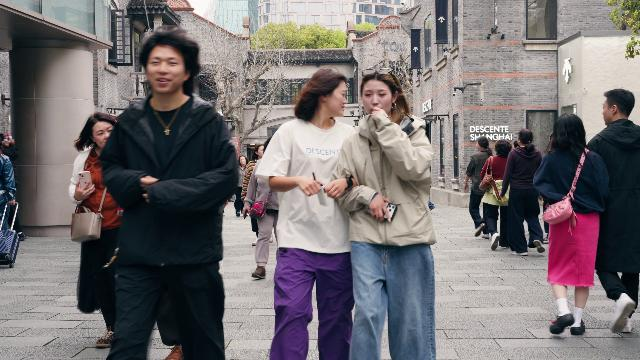person: (98, 24, 240, 360), (332, 67, 439, 360), (255, 65, 358, 360), (534, 113, 610, 336), (586, 88, 640, 334), (68, 111, 124, 348), (499, 129, 546, 256), (241, 135, 280, 280), (475, 140, 513, 251), (464, 136, 493, 239)
